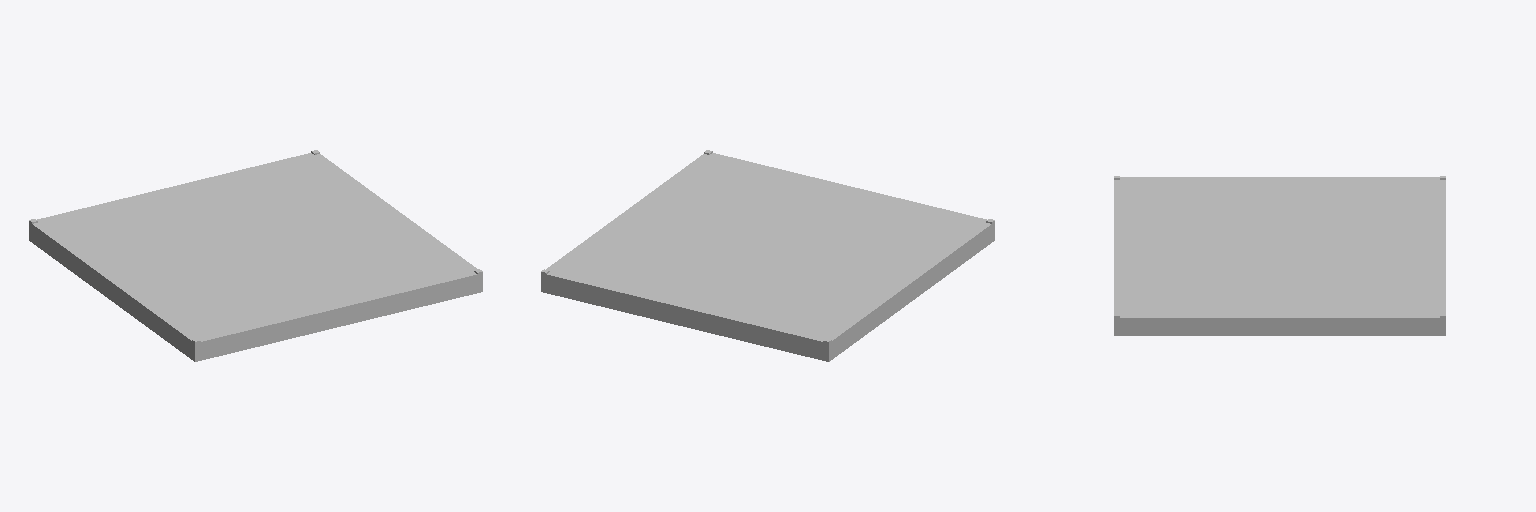
File: intersection 8x8x0.5.obj
The picture shows the model from 3 angles: view 1: azimuth 30°, elevation 25°; view 2: azimuth 150°, elevation 25°; view 3: azimuth 270°, elevation 25°; orthographic projection.
Parts seen in each view (by area): view 1: Cube; view 2: Cube; view 3: Cube.
Part boxes in pixels (x1,y1,x2,y2): Cube: (29, 150, 482, 361); Cube: (541, 150, 994, 361); Cube: (1114, 176, 1445, 335).
Bounding box in the file's own units: 16 × 1.08 × 16.